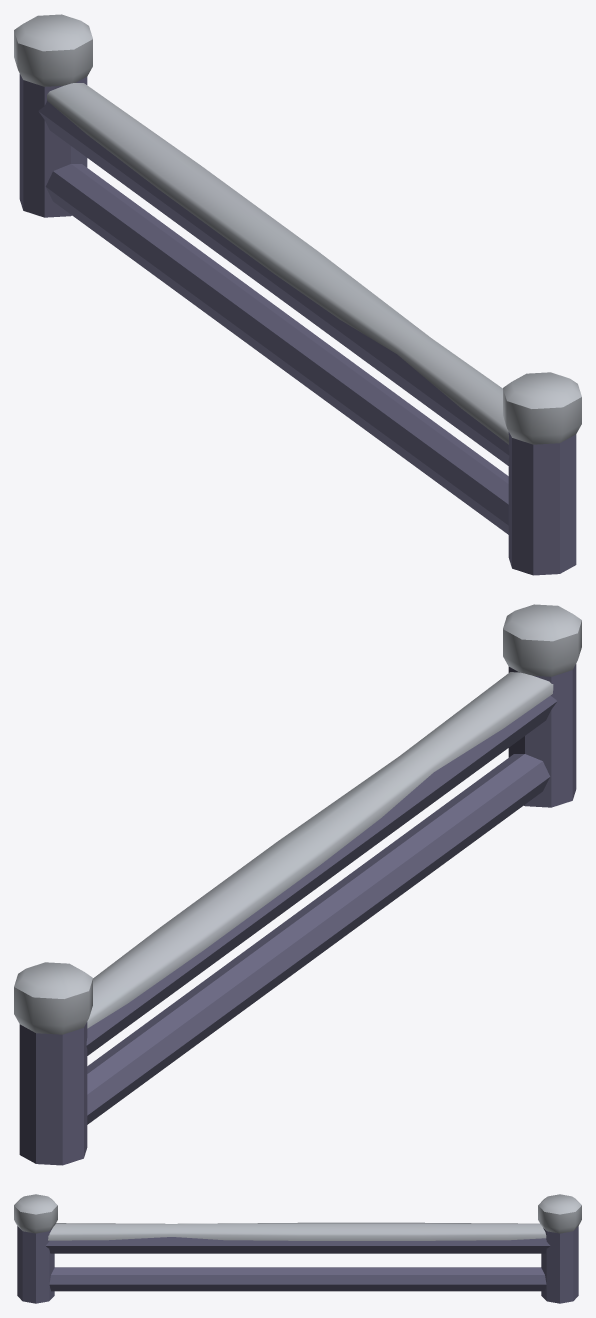
The model's file is RPGBattle_BridgeFloor10_fence1.fbx.
The picture shows the model from 3 angles, top to bottom: view 1: azimuth 30°, elevation 25°; view 2: azimuth 150°, elevation 25°; view 3: azimuth 270°, elevation 25°; orthographic projection. The views are drawn at different scales.
Parts seen in each view (by area): view 1: RPGBattle_BridgeFloor10_fence1; view 2: RPGBattle_BridgeFloor10_fence1; view 3: RPGBattle_BridgeFloor10_fence1.
Boxes of the visible parts, <box> form: RPGBattle_BridgeFloor10_fence1: <box>14,14,581,575</box>; RPGBattle_BridgeFloor10_fence1: <box>14,604,581,1165</box>; RPGBattle_BridgeFloor10_fence1: <box>14,1194,581,1303</box>.
Size of the model in its own units: 75.13 by 178 by 972.
